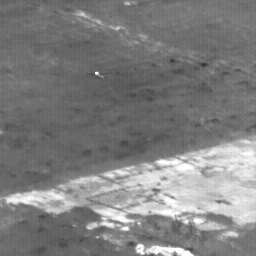aircraft: (96, 72, 98, 74)
